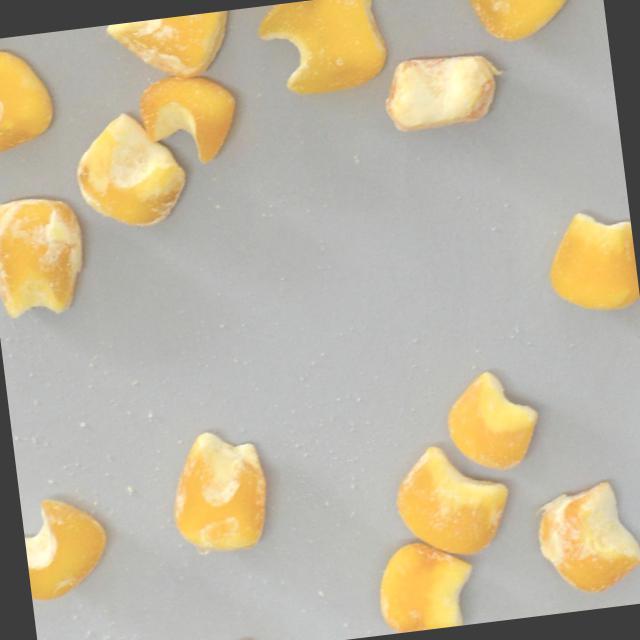dañado: (65, 104, 190, 237), (246, 0, 395, 108), (525, 472, 640, 603), (374, 45, 512, 141), (0, 187, 95, 325), (364, 530, 485, 636), (19, 487, 120, 605), (132, 68, 244, 172), (104, 9, 238, 89), (0, 37, 62, 157), (455, 0, 594, 51), (212, 630, 295, 640)
pelicula: (157, 418, 281, 567), (385, 433, 519, 565), (438, 360, 548, 480), (538, 201, 640, 319)
